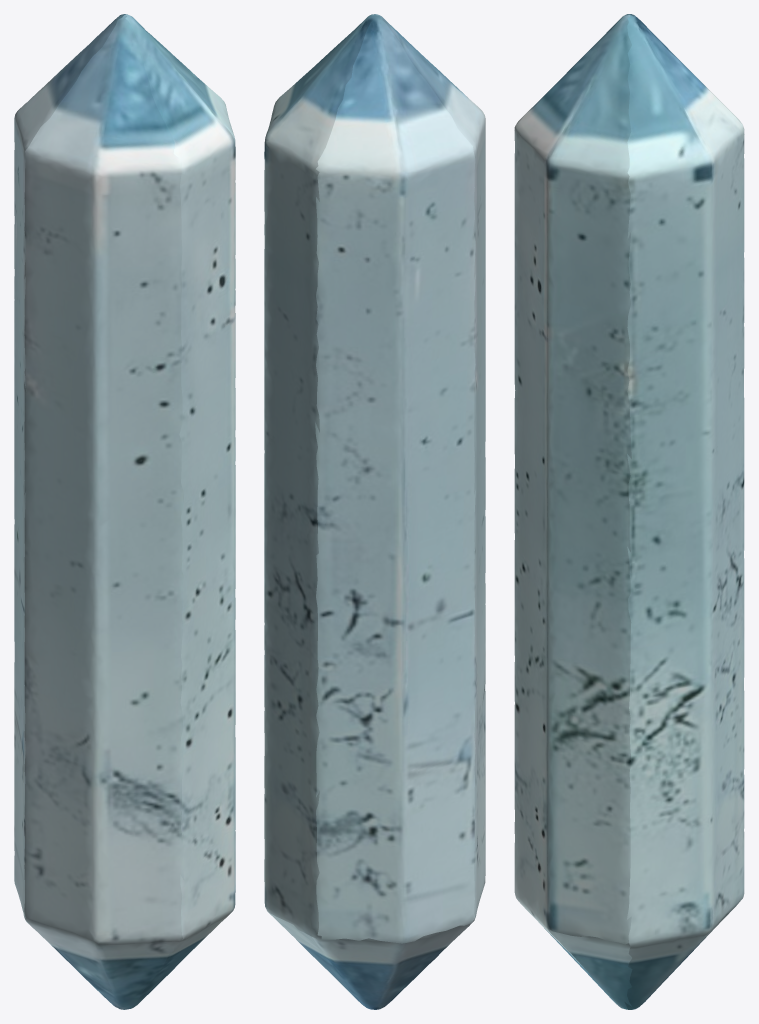
3 views of the same model, side by side, from view 1: azimuth 30°, elevation 25°; view 2: azimuth 150°, elevation 25°; view 3: azimuth 270°, elevation 25° (orthographic).
Visible parts, largest first — view 1: geometry_0; view 2: geometry_0; view 3: geometry_0.
Boxes of the visible parts, x1,y1,x2,y2 form: geometry_0: [14, 14, 235, 1009]; geometry_0: [264, 14, 485, 1009]; geometry_0: [514, 14, 744, 1009].
Size of the model in its own units: 0.2117 by 1 by 0.211.
1 material, 1 textured.
